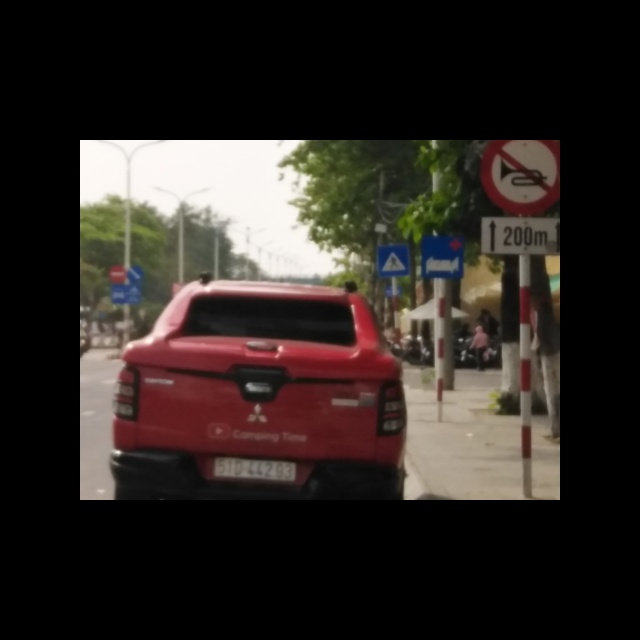Bệnh viện: (421, 238, 462, 283)
Cấm bấm còi: (481, 142, 561, 215)
Đường dành cho người đi bộ: (376, 244, 414, 277)
